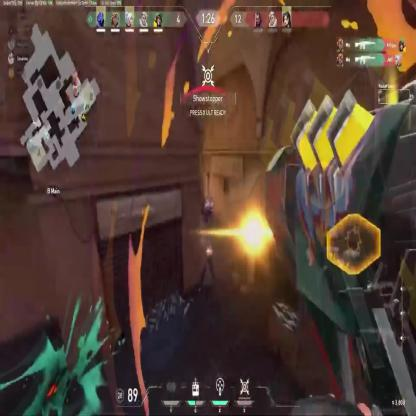enemy: (200, 238, 216, 295), (201, 197, 214, 235)
enemy_head: (205, 239, 211, 248), (205, 198, 209, 205)
